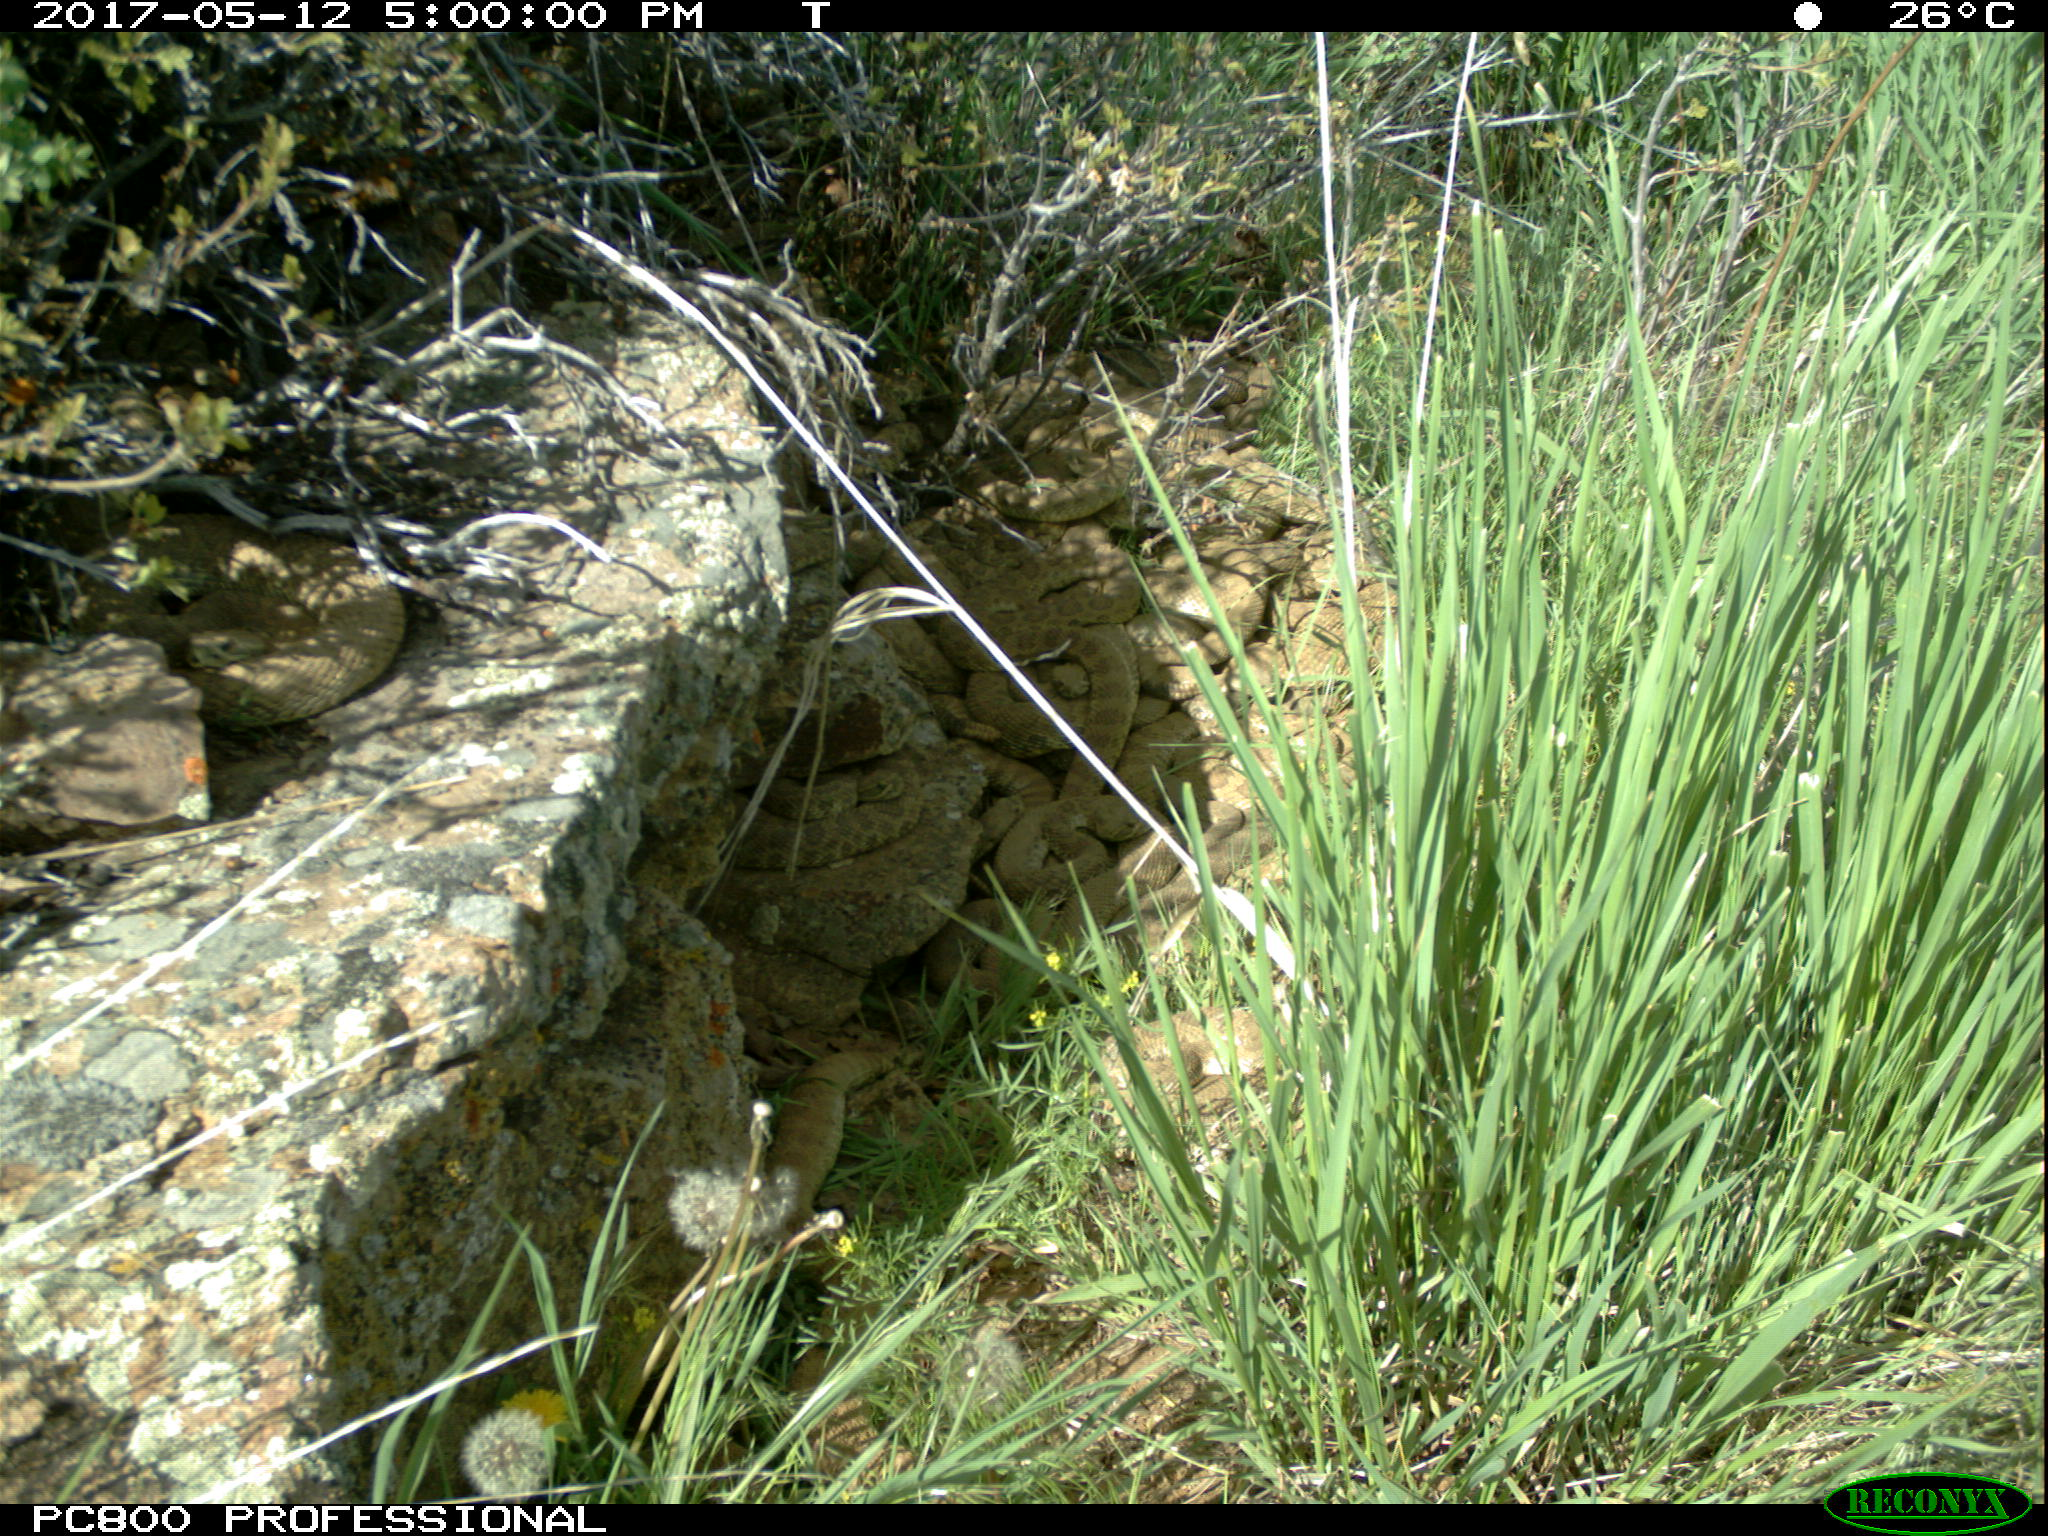snake: (68, 518, 408, 707), (914, 531, 1134, 807), (972, 355, 1193, 524), (1156, 516, 1345, 707), (750, 1042, 900, 1228), (1108, 1016, 1282, 1139), (976, 753, 1121, 891), (755, 778, 959, 857), (937, 900, 1082, 1000)
